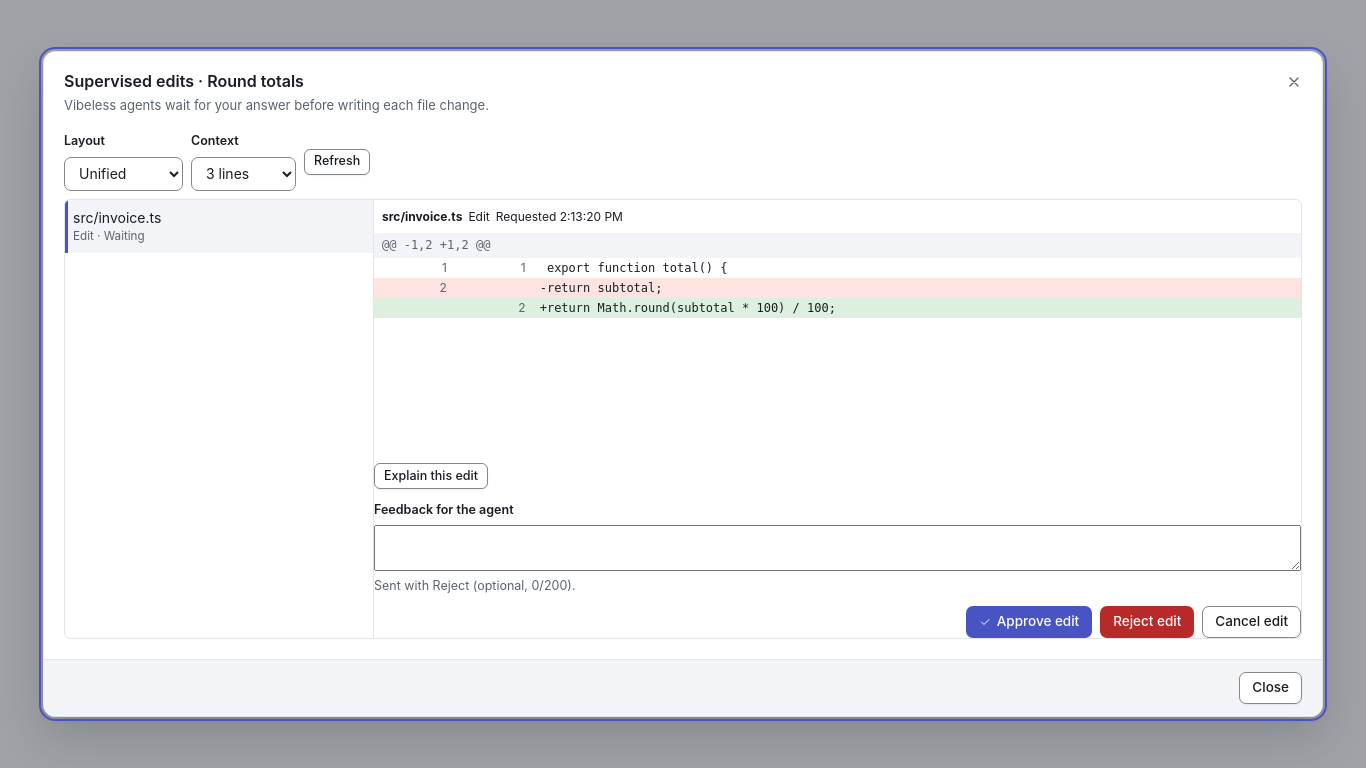
it: drops a confirmation whose revision changed and says when the edit is gone
Expected: the text "-return subtotal;" is shown, [540,281,662,295]
Click the button "Cancel edit".
click(1252, 622)  # box [1202,606,1301,638]
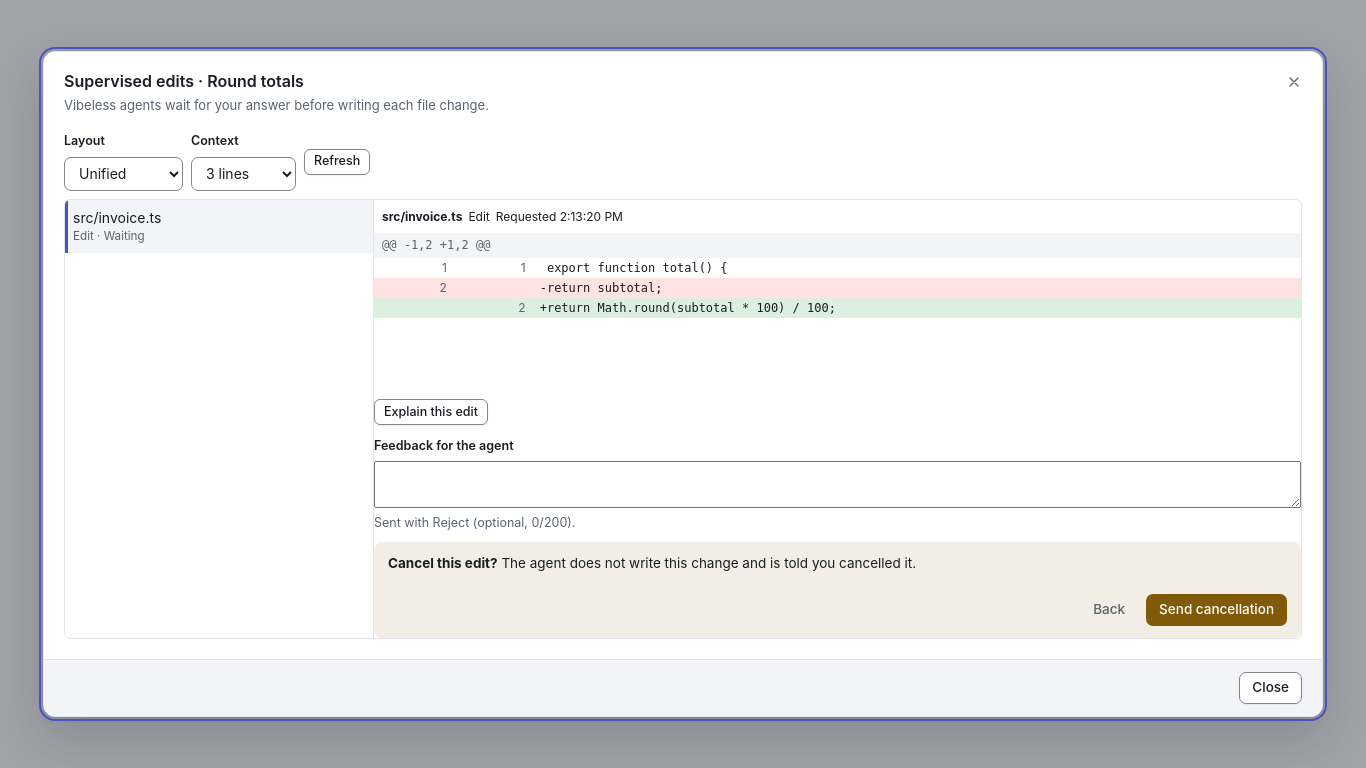
Expected: the dialog named "Confirm answer" is shown, [374,542,1301,638]
Click the button "Refresh".
click(337, 162)  # box [304,148,370,174]
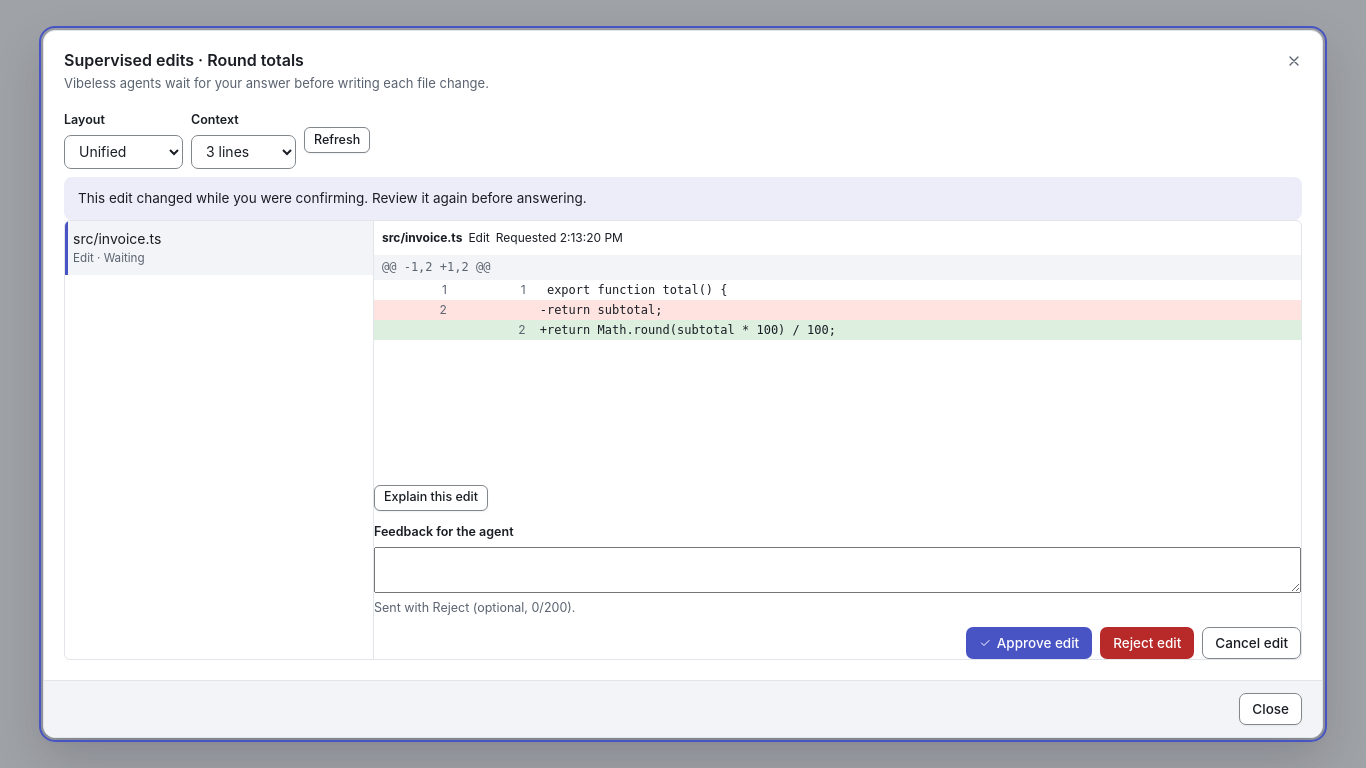
Expected: the text "This edit changed while you were confirming. Review it again before answering." is shown, [64,177,1302,220]
Type "unsent" into the text box labelled "Feedback for the agent".
click(838, 570); type("unsent")  # box [374,547,1301,593]
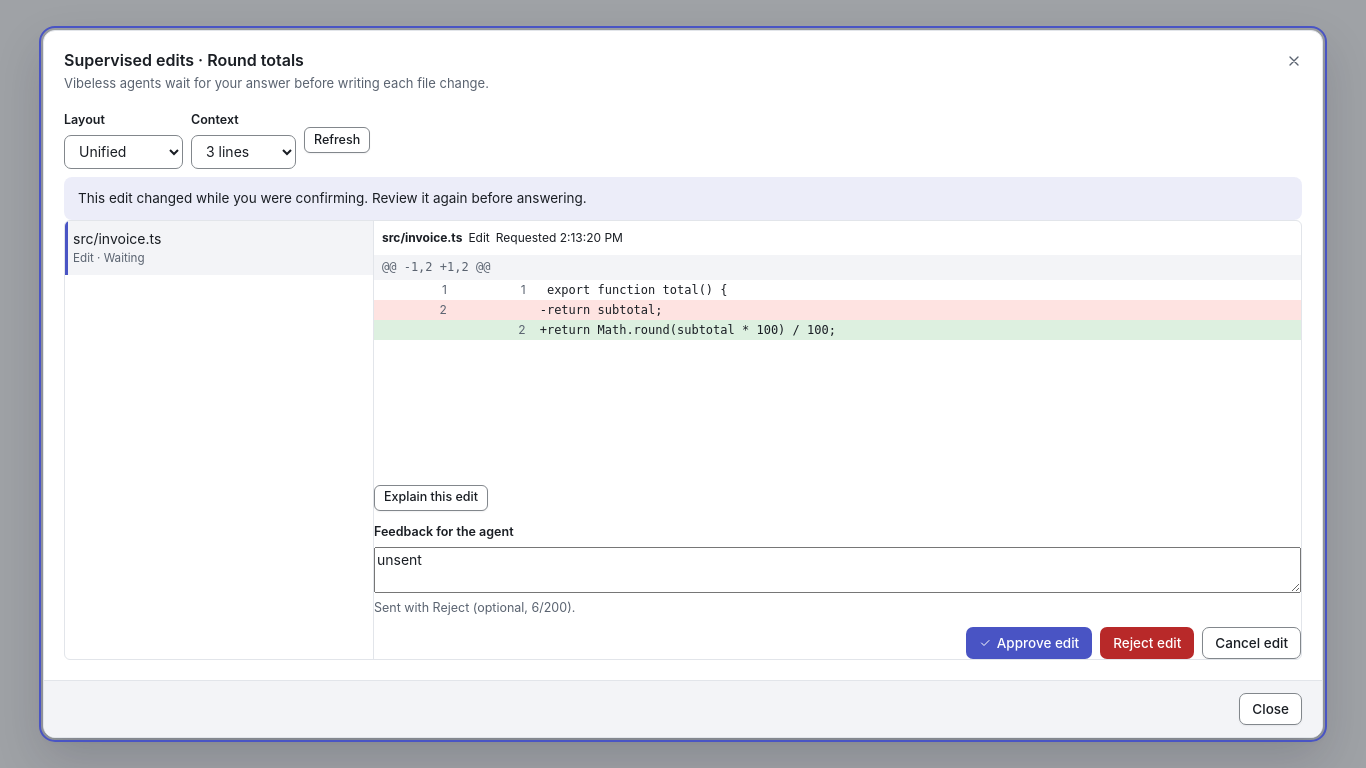
Click the button "Refresh".
click(337, 140)  # box [304,127,370,153]
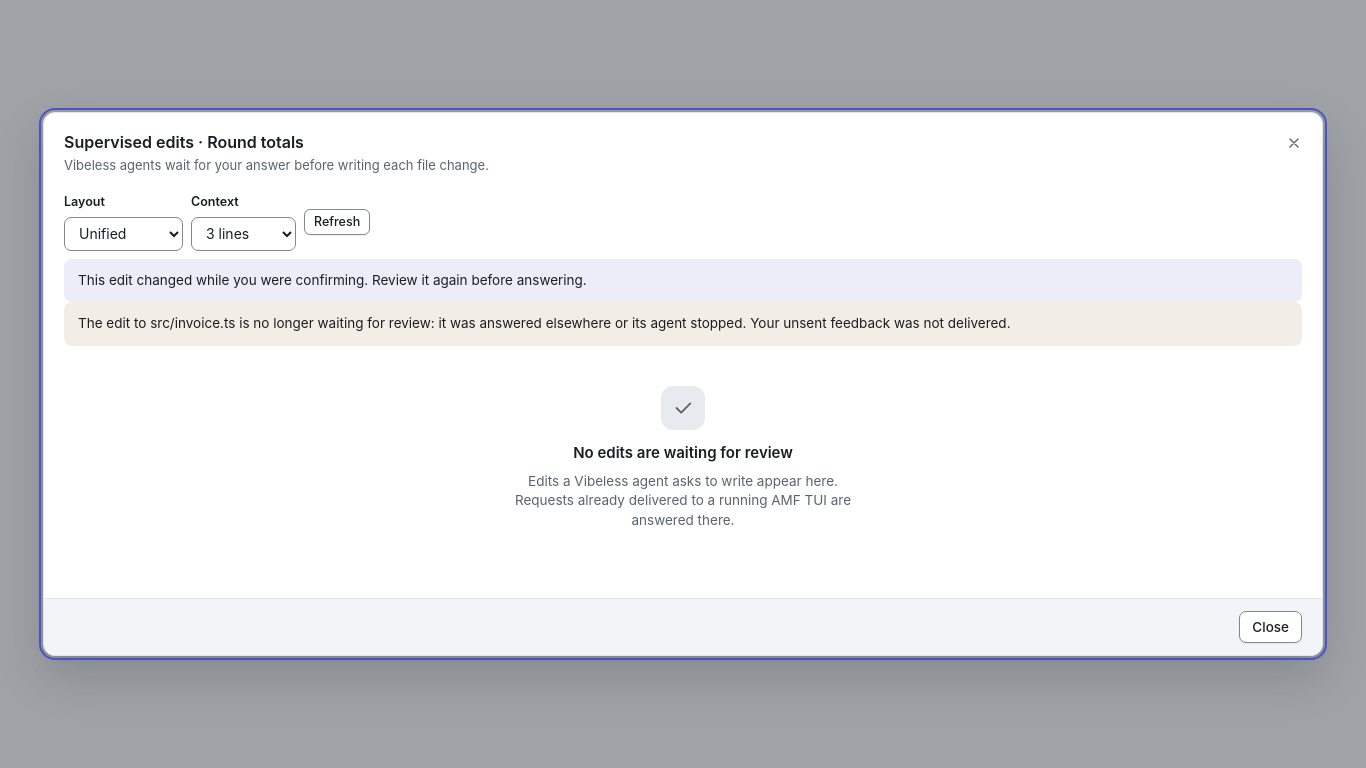
Expected: the text "Your unsent feedback was not delivered" is shown, [78,315,1010,331]
Expected: the heading "No edits are waiting for review" is shown, [573,442,793,464]
